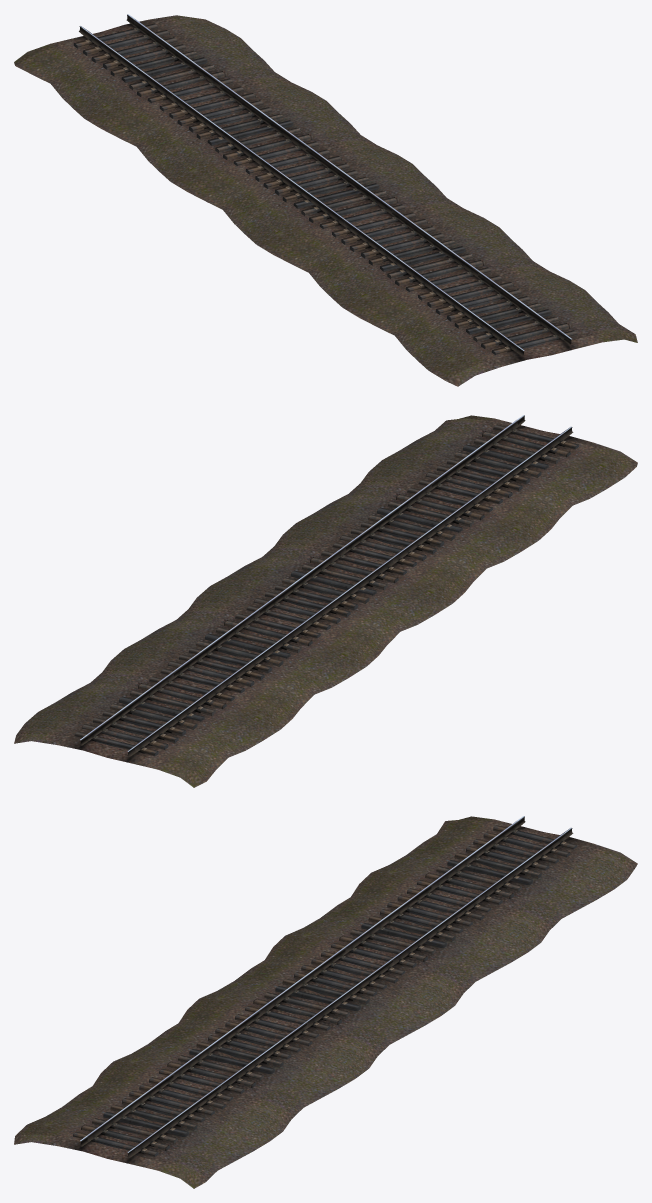
File: 1track_25_der_TSM.gltf
3 renders of one model, top to bottom at view 1: azimuth 30°, elevation 25°; view 2: azimuth 150°, elevation 25°; view 3: azimuth 330°, elevation 25°, orthographic.
Bounding box in the file's own units: 6.7 × 0.6438 × 25.8.
Materials: 1 (1 with a texture image).
